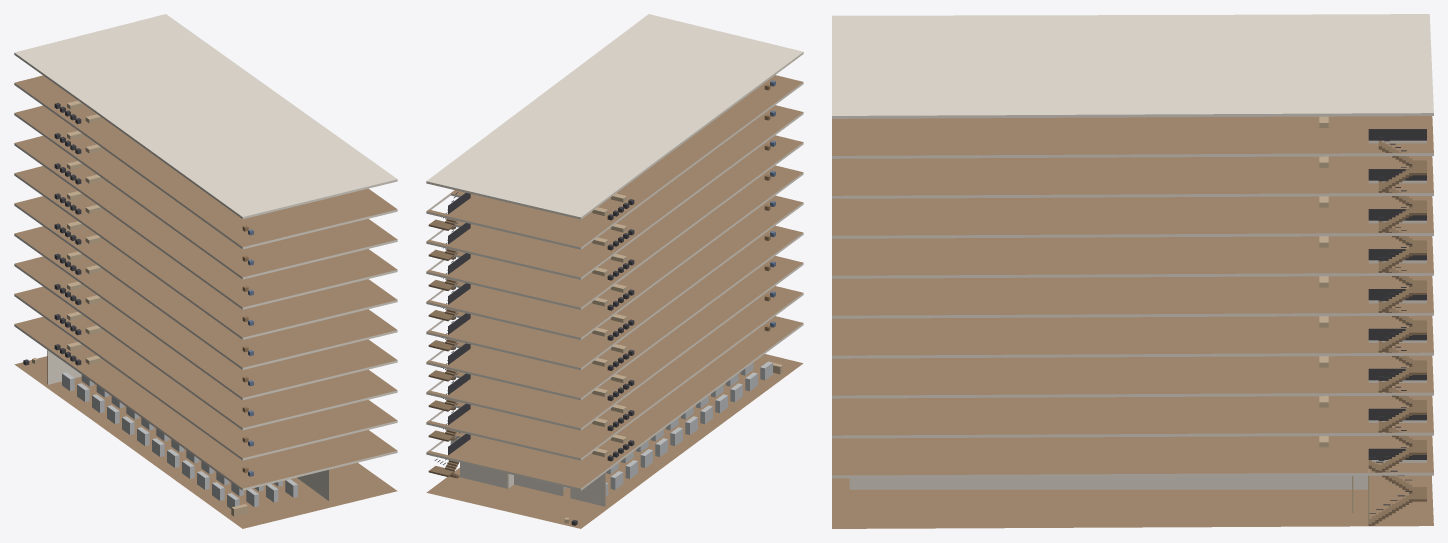
File: interior.glb
The picture shows the model from 3 angles, left to right: view 1: azimuth 30°, elevation 25°; view 2: azimuth 150°, elevation 25°; view 3: azimuth 270°, elevation 25°; orthographic projection. The views are drawn at different scales.
Visible parts, largest first — view 1: slabs, coarse-s0, partitions, coarse-s2, coarse-s8, coarse-s3, coarse-s4, coarse-s1, coarse-s7, coarse-s9, coarse-s5, coarse-s6; view 2: slabs, stair, coarse-s0, partitions, coarse-s7, coarse-s6, coarse-s8, coarse-s1, coarse-s4, coarse-s9, coarse-s2, coarse-s5 (+1 smaller); view 3: slabs, stair, partitions.
Part boxes in pixels (x1=…): slabs: x1=14, y1=14, x2=397, y2=528; coarse-s0: x1=23, y1=358, x2=297, y2=516; partitions: x1=47, y1=350, x2=329, y2=501; coarse-s2: x1=54, y1=312, x2=253, y2=446; coarse-s8: x1=54, y1=131, x2=253, y2=265; coarse-s3: x1=54, y1=281, x2=253, y2=416; coarse-s4: x1=54, y1=251, x2=253, y2=386; coarse-s1: x1=54, y1=342, x2=253, y2=476; coarse-s7: x1=54, y1=161, x2=253, y2=295; coarse-s9: x1=54, y1=100, x2=253, y2=235; coarse-s5: x1=54, y1=221, x2=253, y2=355; coarse-s6: x1=54, y1=191, x2=253, y2=325; slabs: x1=426, y1=14, x2=803, y2=528; stair: x1=428, y1=192, x2=470, y2=478; coarse-s0: x1=563, y1=361, x2=782, y2=525; partitions: x1=450, y1=438, x2=605, y2=506; coarse-s7: x1=592, y1=140, x2=775, y2=280; coarse-s6: x1=592, y1=170, x2=775, y2=310; coarse-s8: x1=592, y1=110, x2=775, y2=250; coarse-s1: x1=592, y1=321, x2=775, y2=461; coarse-s4: x1=592, y1=231, x2=775, y2=370; coarse-s9: x1=592, y1=80, x2=775, y2=220; coarse-s2: x1=592, y1=291, x2=775, y2=431; coarse-s5: x1=592, y1=201, x2=775, y2=340; slabs: x1=832, y1=14, x2=1433, y2=528; stair: x1=1368, y1=129, x2=1426, y2=525; partitions: x1=849, y1=469, x2=1369, y2=525.
Size of the model in its own units: 19.46 by 36.76 by 48.53.
